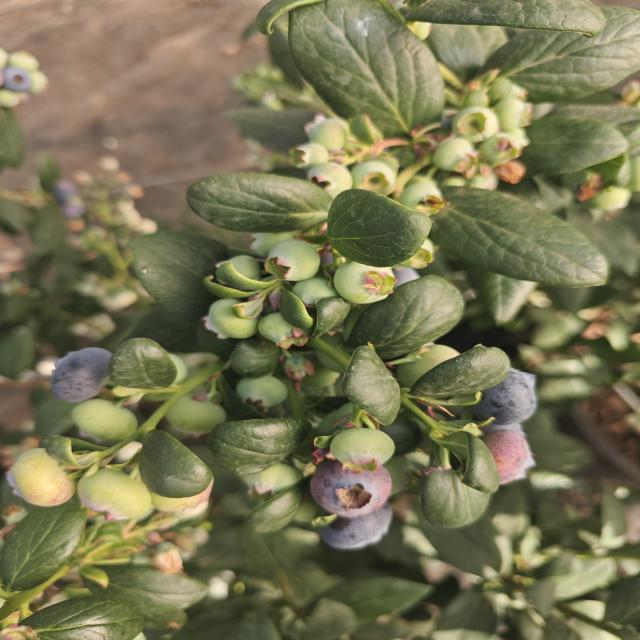ripe: (306, 454, 395, 520), (468, 366, 540, 428), (47, 346, 115, 406), (324, 519, 402, 549)
